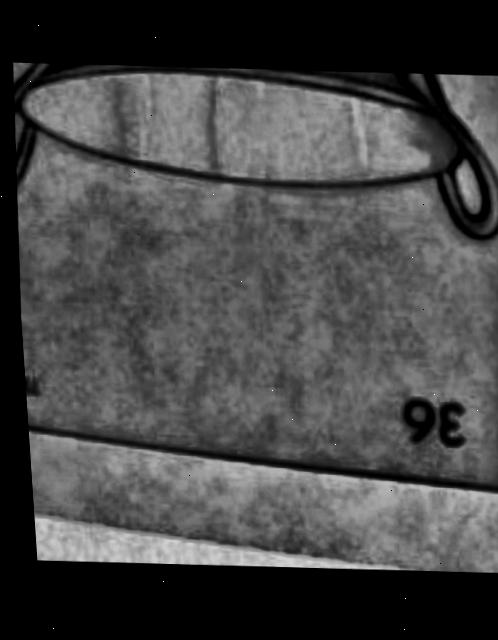El Cazo: (12, 67, 498, 500)
